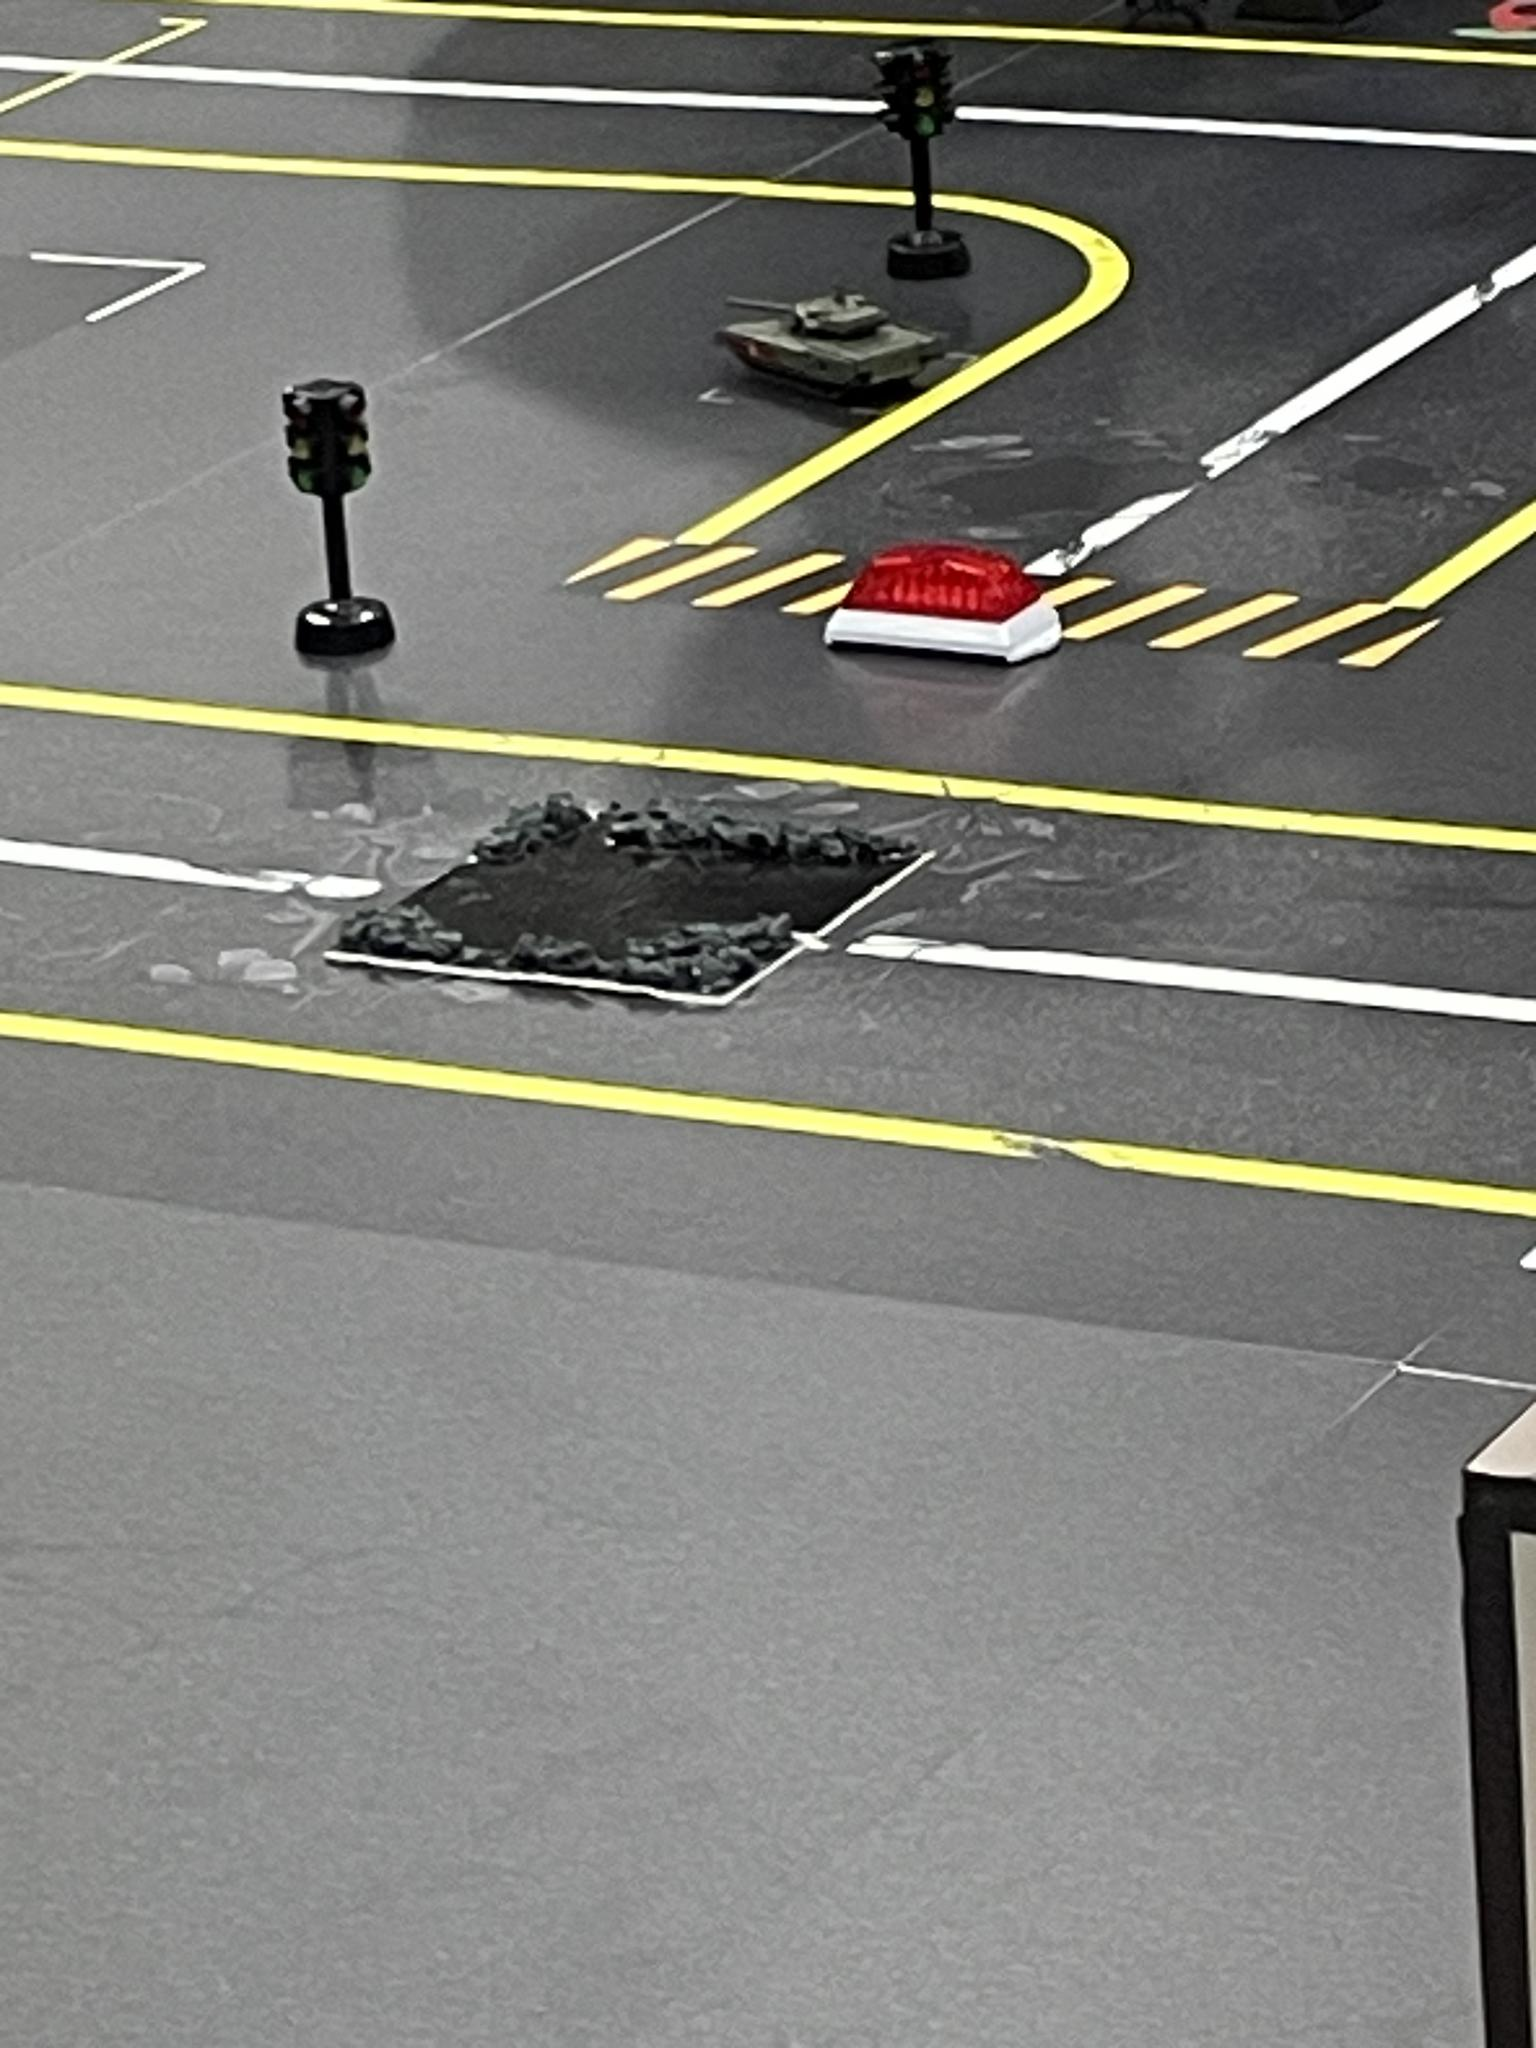Tank: (718, 277, 945, 406)
